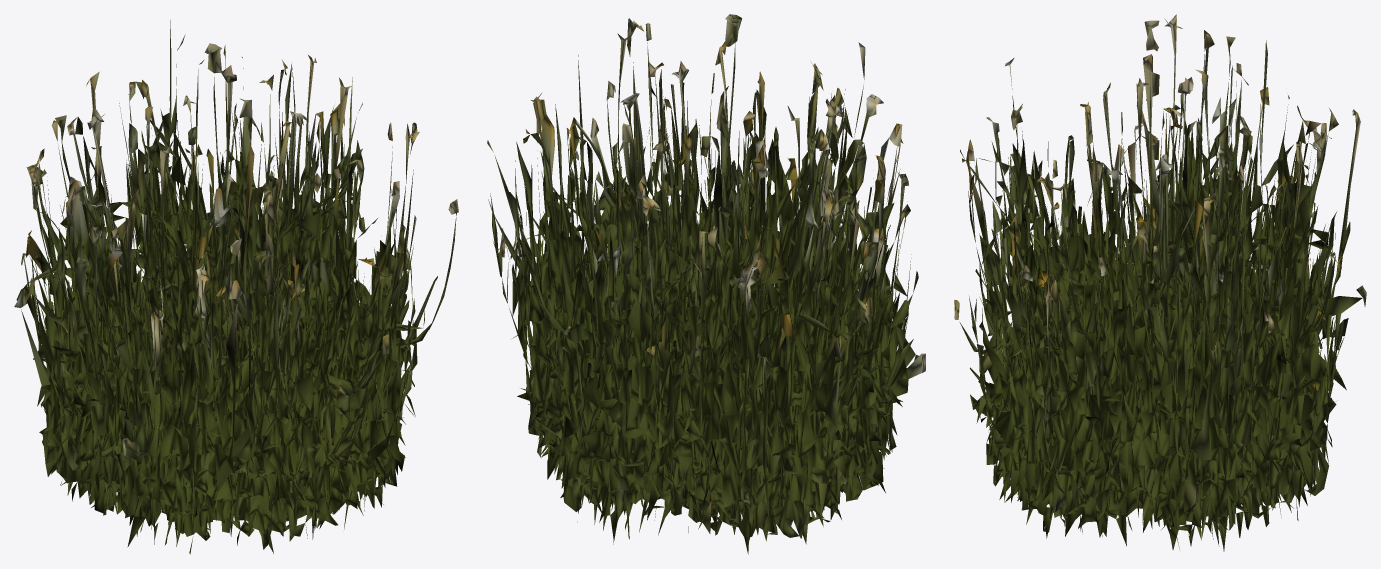
Rendered from chamomile.glb.
3 views of the same model, side by side, from view 1: azimuth 30°, elevation 25°; view 2: azimuth 150°, elevation 25°; view 3: azimuth 270°, elevation 25° (orthographic). The views are drawn at different scales.
Parts seen in each view (by area): view 1: Mesh_0.001; view 2: Mesh_0.001; view 3: Mesh_0.001.
Boxes of the visible parts, <box> form: Mesh_0.001: <box>14,20,458,554</box>; Mesh_0.001: <box>487,14,925,554</box>; Mesh_0.001: <box>954,14,1366,551</box>.
Size of the model in its own units: 1.2 by 1.5 by 1.2.
